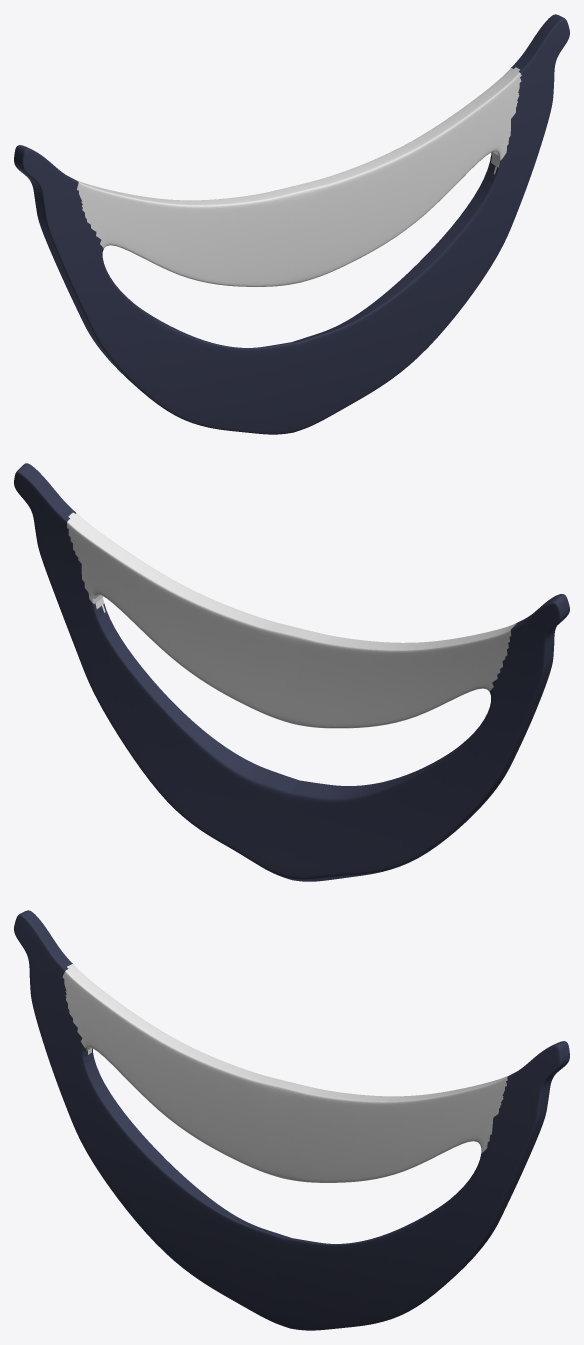
File: Sonrisa camino .fbx
3 renders of one model, top to bottom at view 1: azimuth 30°, elevation 25°; view 2: azimuth 150°, elevation 25°; view 3: azimuth 330°, elevation 25°, orthographic.
Visible parts, largest first — view 1: Sonrisa; view 2: Sonrisa; view 3: Sonrisa.
Part boxes in pixels (x1=…): Sonrisa: x1=14, y1=14, x2=569, y2=434; Sonrisa: x1=14, y1=463, x2=569, y2=881; Sonrisa: x1=14, y1=910, x2=569, y2=1330.
Bounding box in the file's own units: 279 × 170 × 15.08.
